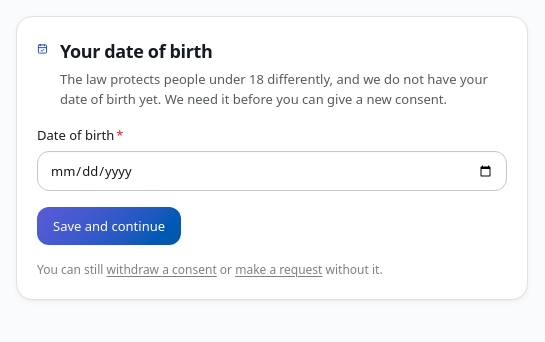
Test case: RequireAge › refuses a date in the future before sending it
Step 1. Type "2999-01-01" into the date field labelled "Date of birth*" → {"x": 272, "y": 171}, box 37,151 -> 507,191
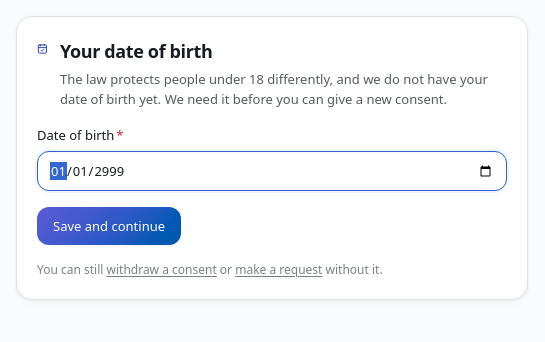
Step 2. Click the button "Save and continue" → {"x": 109, "y": 226}, box 37,207 -> 181,245
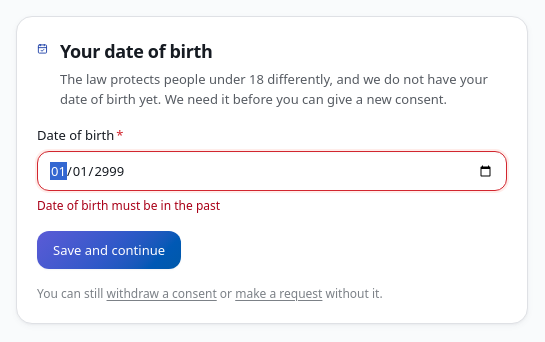
Expected: the text "Date of birth must be in the past" is shown, 37,197 -> 220,214
